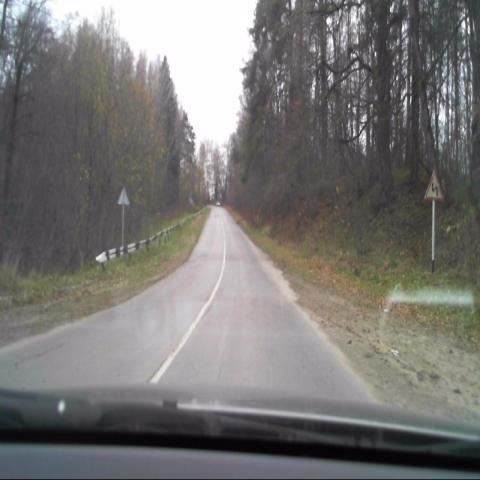1_12_2: (425, 169, 442, 199)
